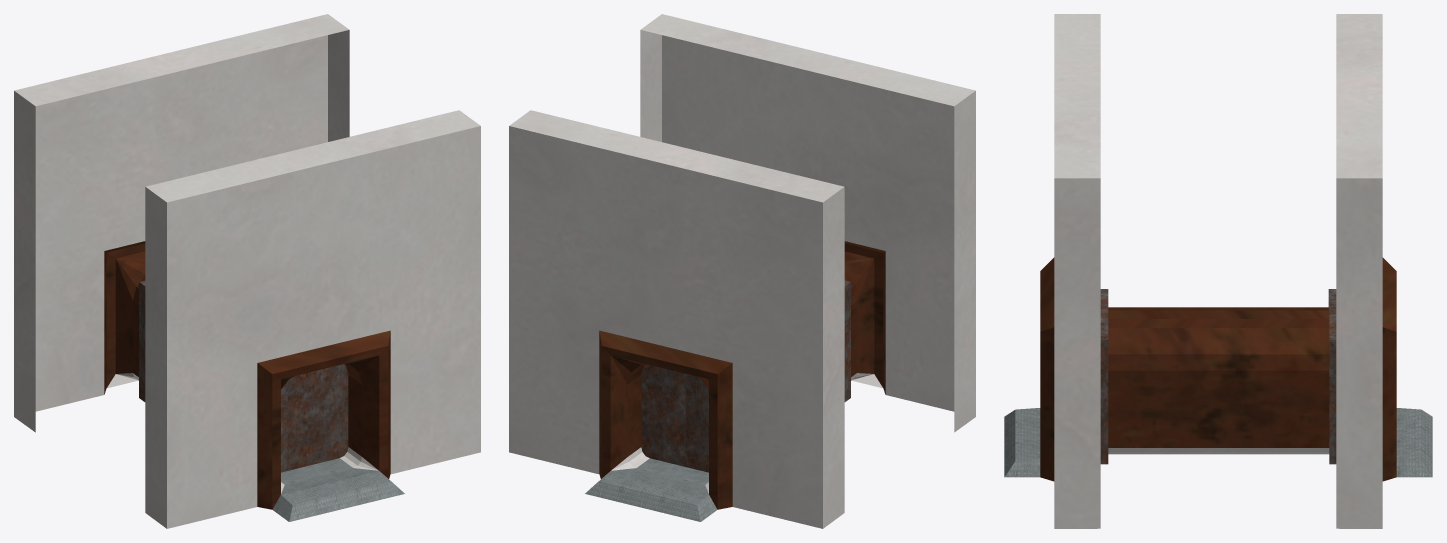
The model's file is door.glb.
3 views of the same model, side by side, from view 1: azimuth 30°, elevation 25°; view 2: azimuth 150°, elevation 25°; view 3: azimuth 270°, elevation 25° (orthographic). The views are drawn at different scales.
Parts seen in each view (by area): view 1: WallDoor, LeftDoorOut, RightDoorOut, RightDoorIn; view 2: WallDoor, LeftDoorIn, RightDoorIn, RightDoorOut; view 3: WallDoor, LeftDoorOut, LeftDoorIn.
Part boxes in pixels (<box>): WallDoor: <box>14,14,480,528</box>; LeftDoorOut: <box>303,364,348,466</box>; RightDoorOut: <box>281,374,303,472</box>; RightDoorIn: <box>139,280,145,401</box>; WallDoor: <box>509,14,975,528</box>; LeftDoorIn: <box>641,364,685,466</box>; RightDoorIn: <box>686,374,708,472</box>; RightDoorOut: <box>844,280,850,401</box>; WallDoor: <box>1004,14,1432,528</box>; LeftDoorOut: <box>1100,314,1108,464</box>; LeftDoorIn: <box>1329,314,1336,464</box>.
Size of what is drawn, in the model's own units: 1.1 by 1.1 by 1.21.
Materials: 4 (4 with a texture image).
